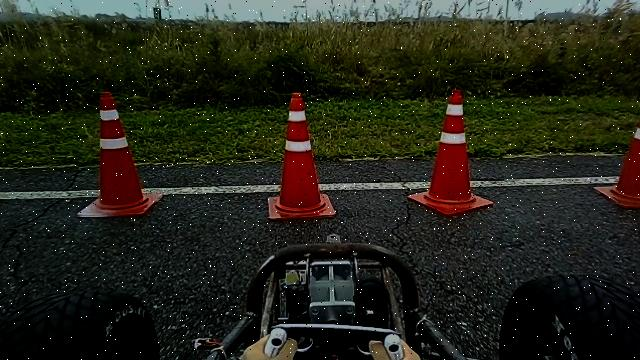red cone: (407, 87, 494, 216), (76, 90, 162, 218), (267, 91, 336, 220)
